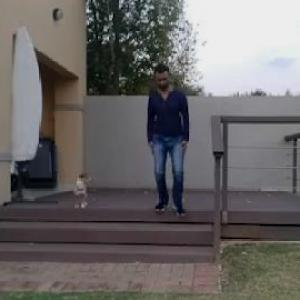follow: (154, 63, 192, 219)
